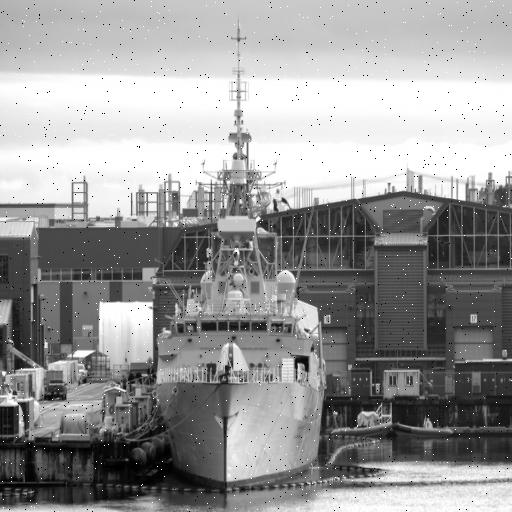Fragata: (145, 12, 332, 497)
